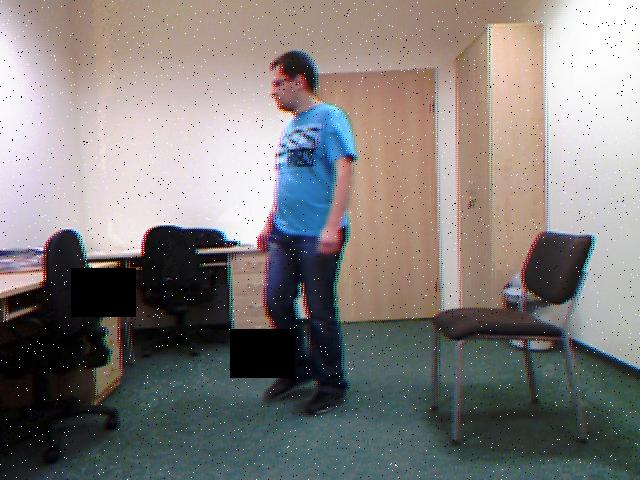walking: (253, 40, 372, 418)
